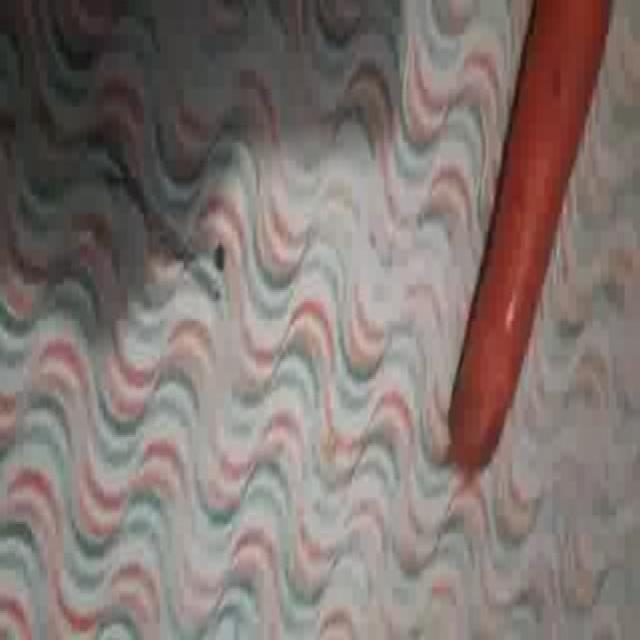carrot: (449, 0, 609, 469)
